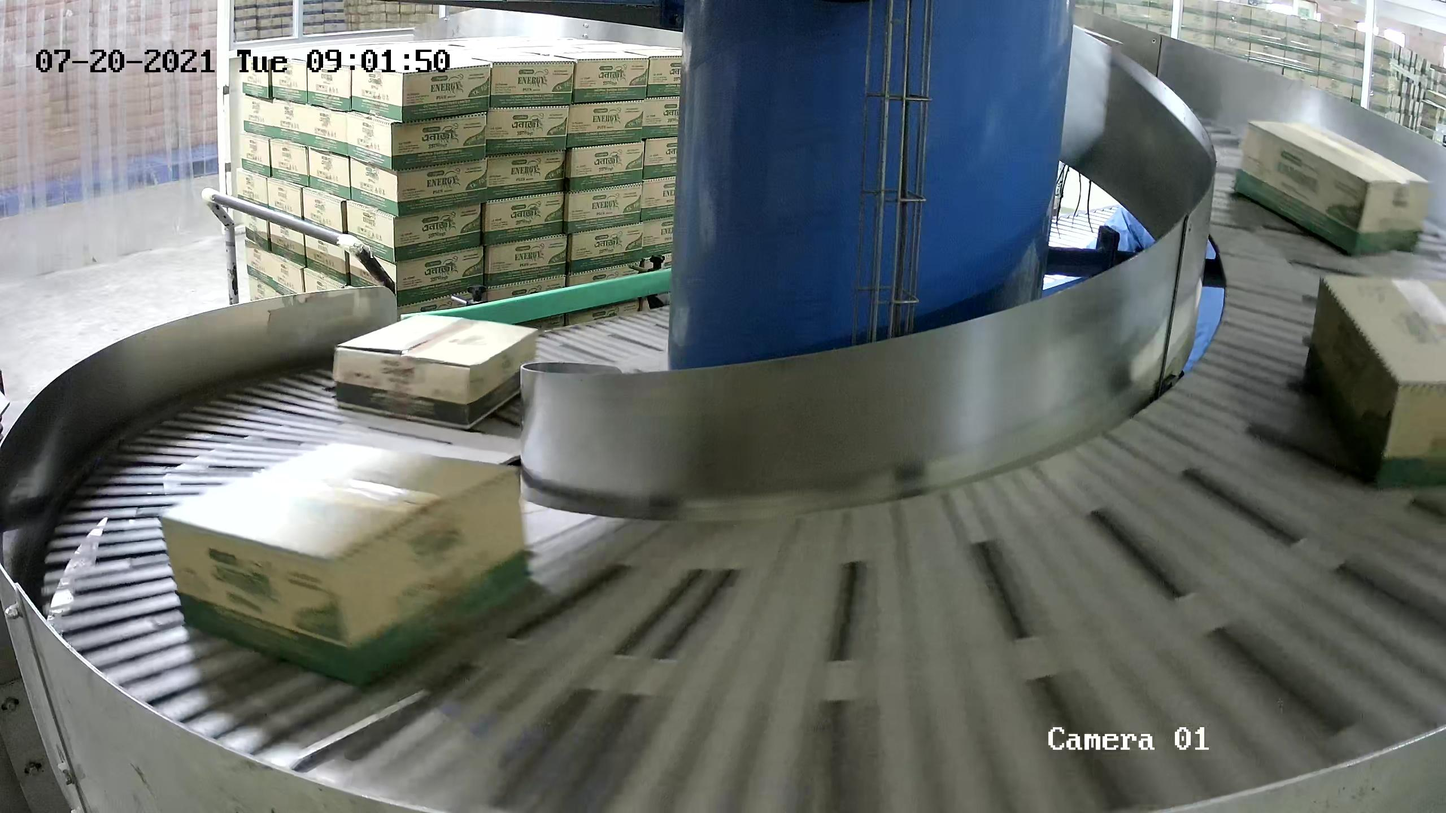Box: (156, 438, 535, 690), (1301, 271, 1446, 496), (1232, 117, 1434, 258), (331, 312, 541, 429)
